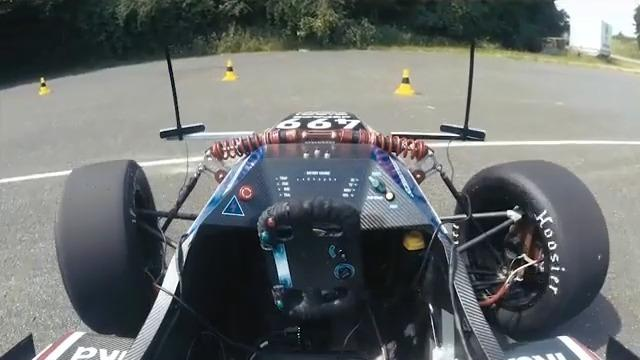yellow_cone: (395, 66, 421, 105), (225, 57, 240, 80), (35, 77, 53, 93)
